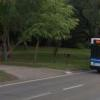Tree: (8, 0, 87, 54)
